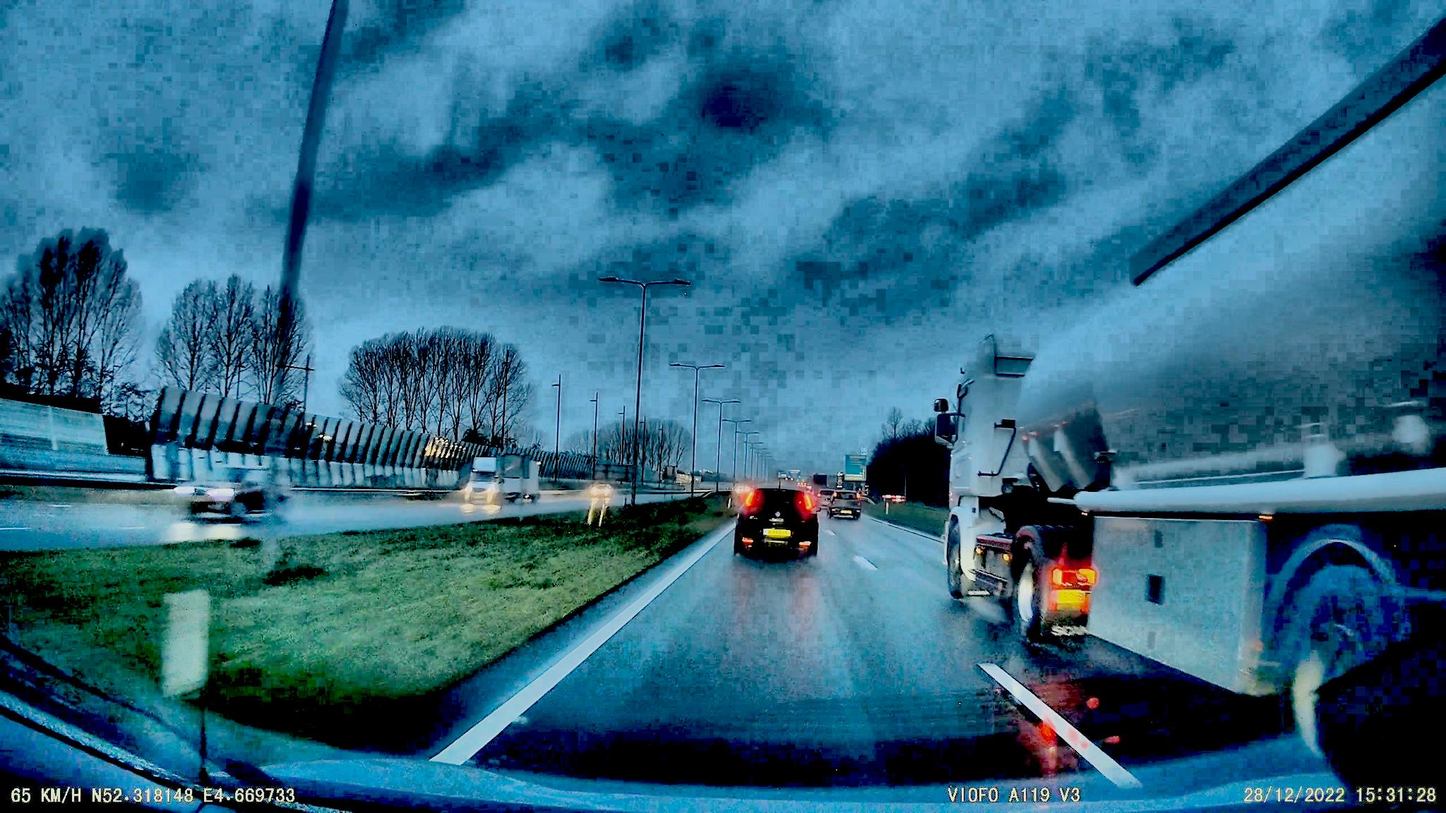Roads: (379, 515, 1343, 813)
